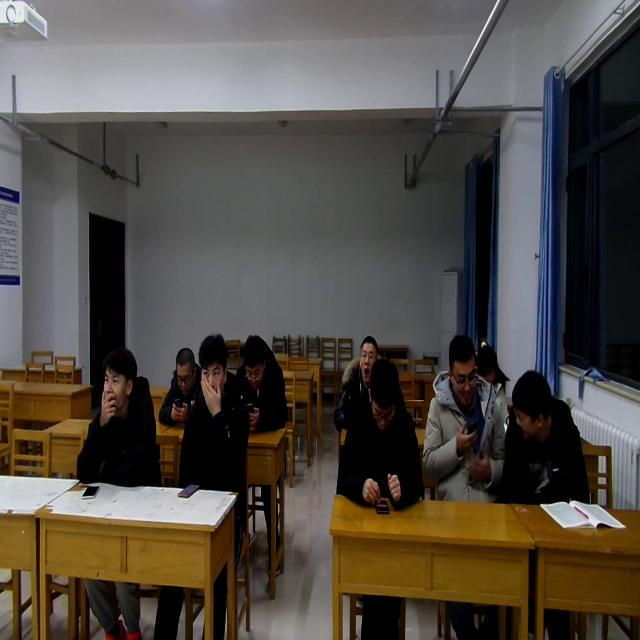bow: (235, 331, 290, 435), (159, 344, 203, 424)
down: (364, 357, 404, 434), (446, 332, 484, 412), (196, 326, 230, 402), (240, 328, 272, 394), (169, 342, 197, 394), (474, 333, 496, 384)
lookup: (98, 342, 140, 418), (355, 328, 376, 382)
sit: (424, 333, 506, 506), (336, 356, 424, 509), (75, 344, 163, 490), (503, 369, 593, 506), (178, 331, 252, 491), (334, 332, 384, 428), (474, 339, 512, 436)
